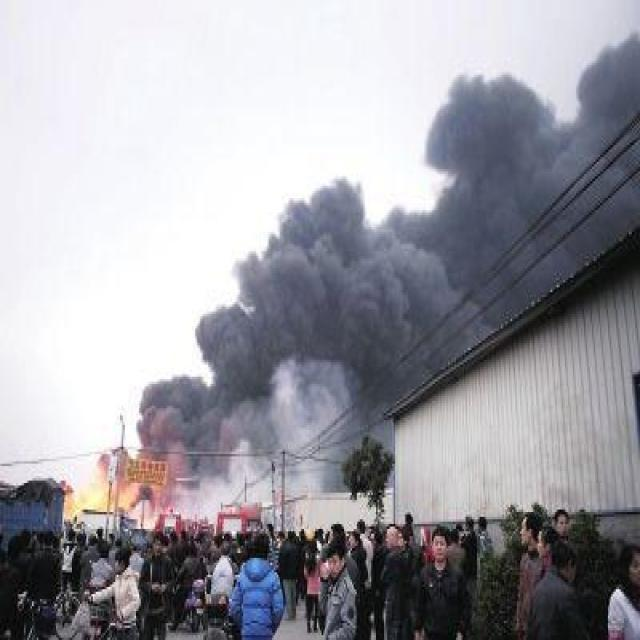Fire: (61, 462, 136, 527)
Smoke: (137, 26, 640, 502)
